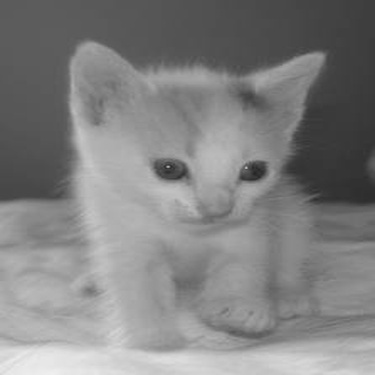cat: (69, 38, 325, 352)
